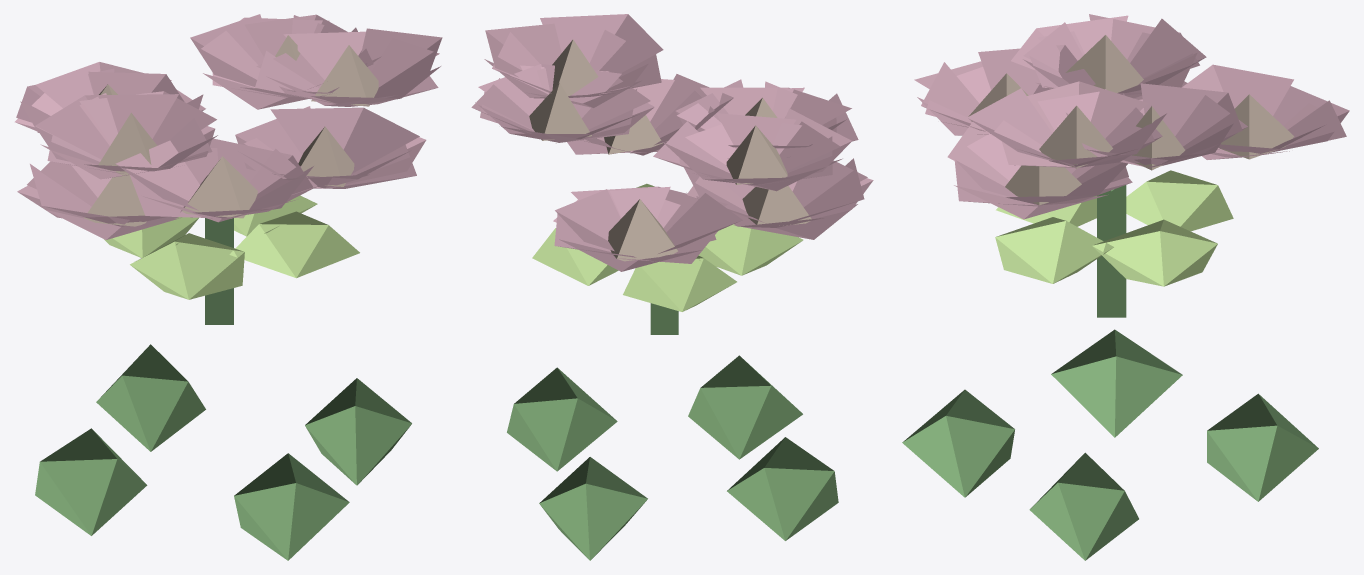
The model's file is shui.lian@flowering__bloom.glb.
3 renders of one model, left to right at view 1: azimuth 30°, elevation 25°; view 2: azimuth 150°, elevation 25°; view 3: azimuth 270°, elevation 25°, orthographic. The views are drawn at different scales.
Visible parts, largest first — view 1: shui.lian@flowering__bloom; view 2: shui.lian@flowering__bloom; view 3: shui.lian@flowering__bloom.
Boxes of the visible parts, box(x1,y1,x2,y2) form: shui.lian@flowering__bloom: box(15, 14, 442, 560); shui.lian@flowering__bloom: box(471, 14, 873, 560); shui.lian@flowering__bloom: box(902, 14, 1349, 560).
Bounding box in the file's own units: 1.21 × 1.3 × 1.17.
